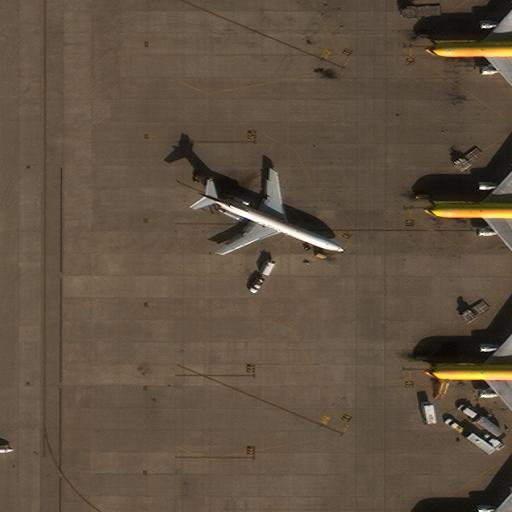Large Civil Transport: (423, 156, 511, 268), (428, 320, 511, 426), (429, 0, 511, 104)
Medium Civil Transport: (198, 169, 338, 254)
